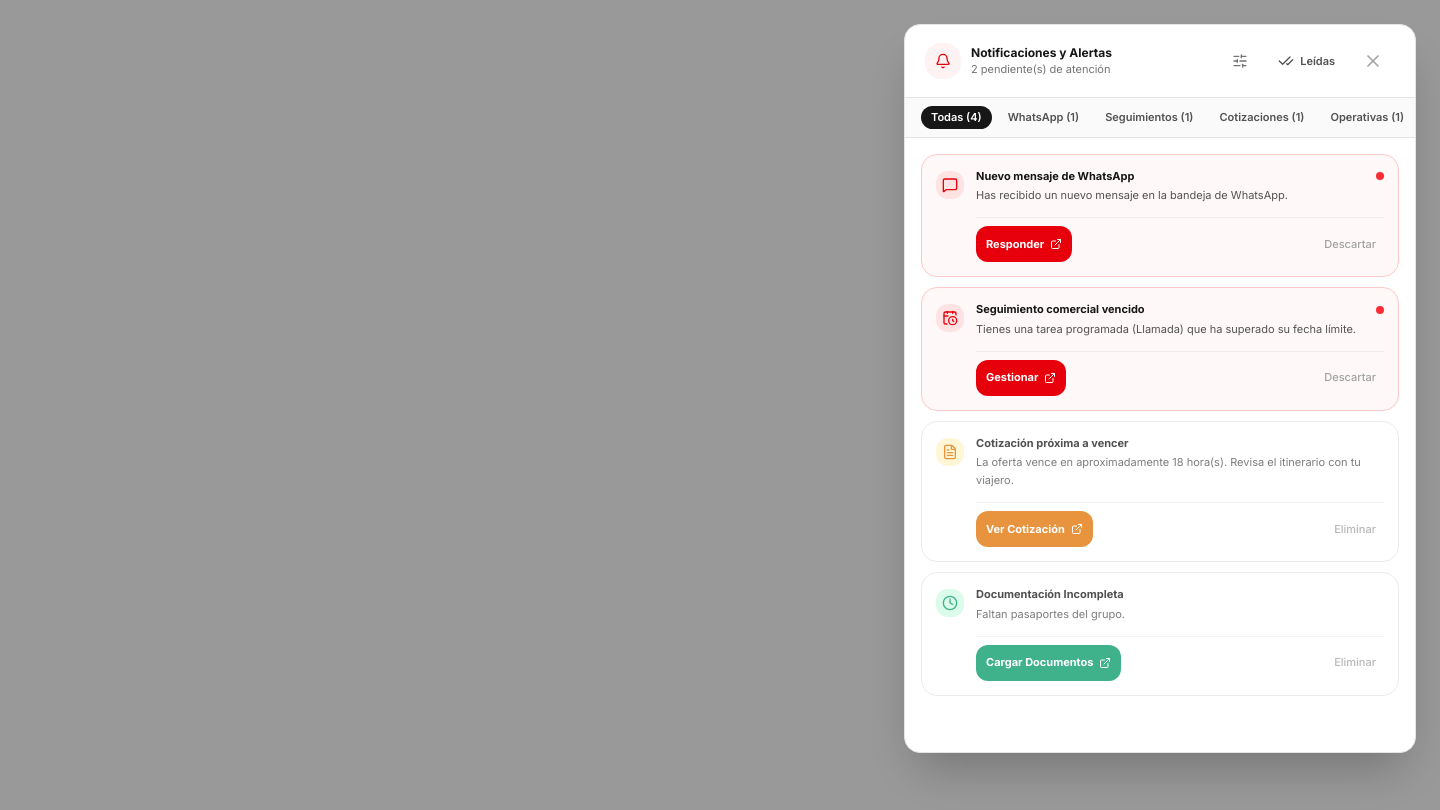
Componente PanelNotificaciones (T-110) › filtra correctamente por categoría
Note: Filtrar por WhatsApp
What coordinates should you click on to do the following:
click the tab with test id "filtro-mensajes"
I would click on:
 (1043, 117)
Its box is x1=998 y1=106 x2=1089 y2=129.
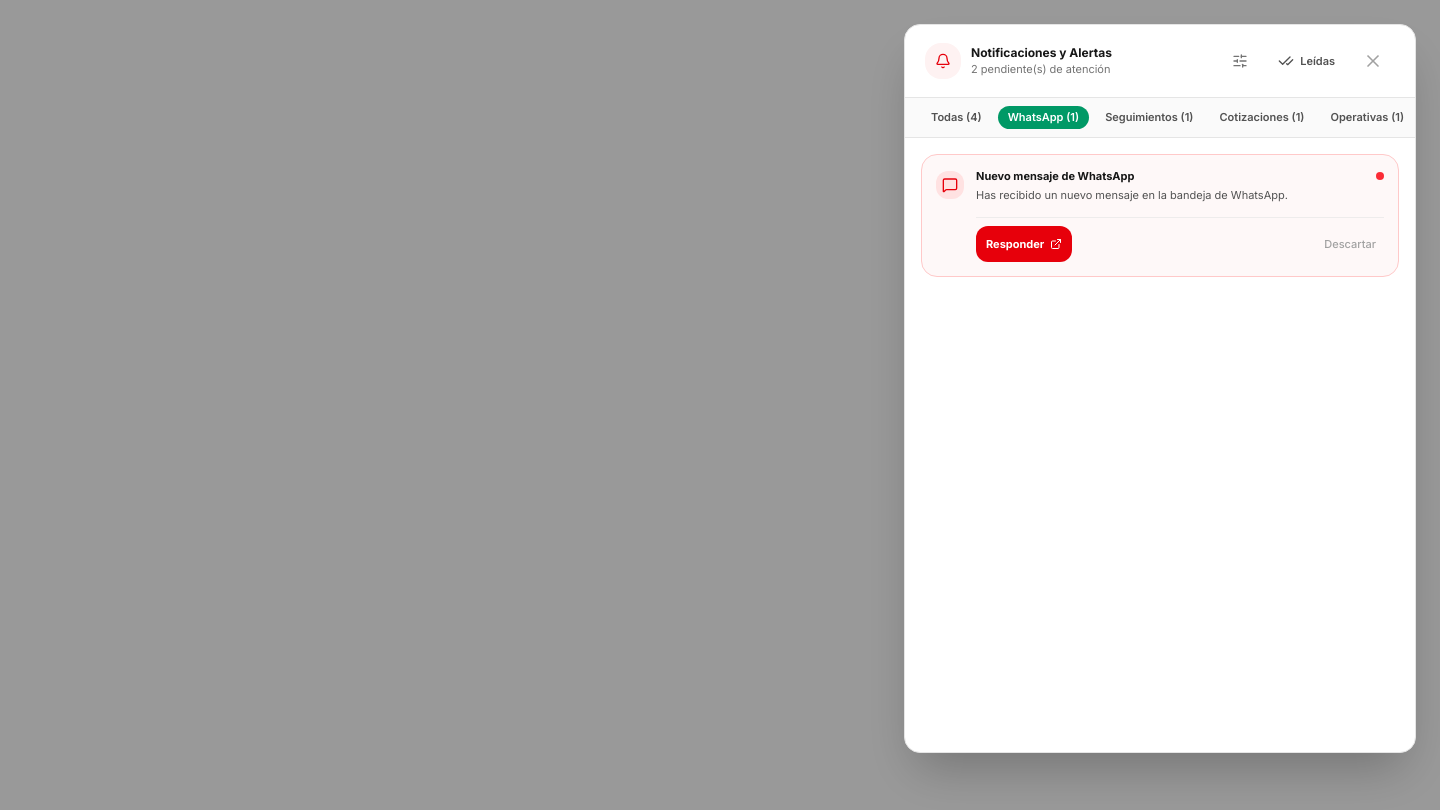
Expected: the text "Nuevo mensaje de WhatsApp" is shown, x1=976 y1=169 x2=1134 y2=183
Expected: the text "Seguimiento comercial vencido" is gone
Note: Filtrar por Seguimientos
What coordinates should you click on to do the following:
click the tab with test id "filtro-seguimientos"
I would click on:
 (1149, 117)
Its box is x1=1095 y1=106 x2=1203 y2=129.
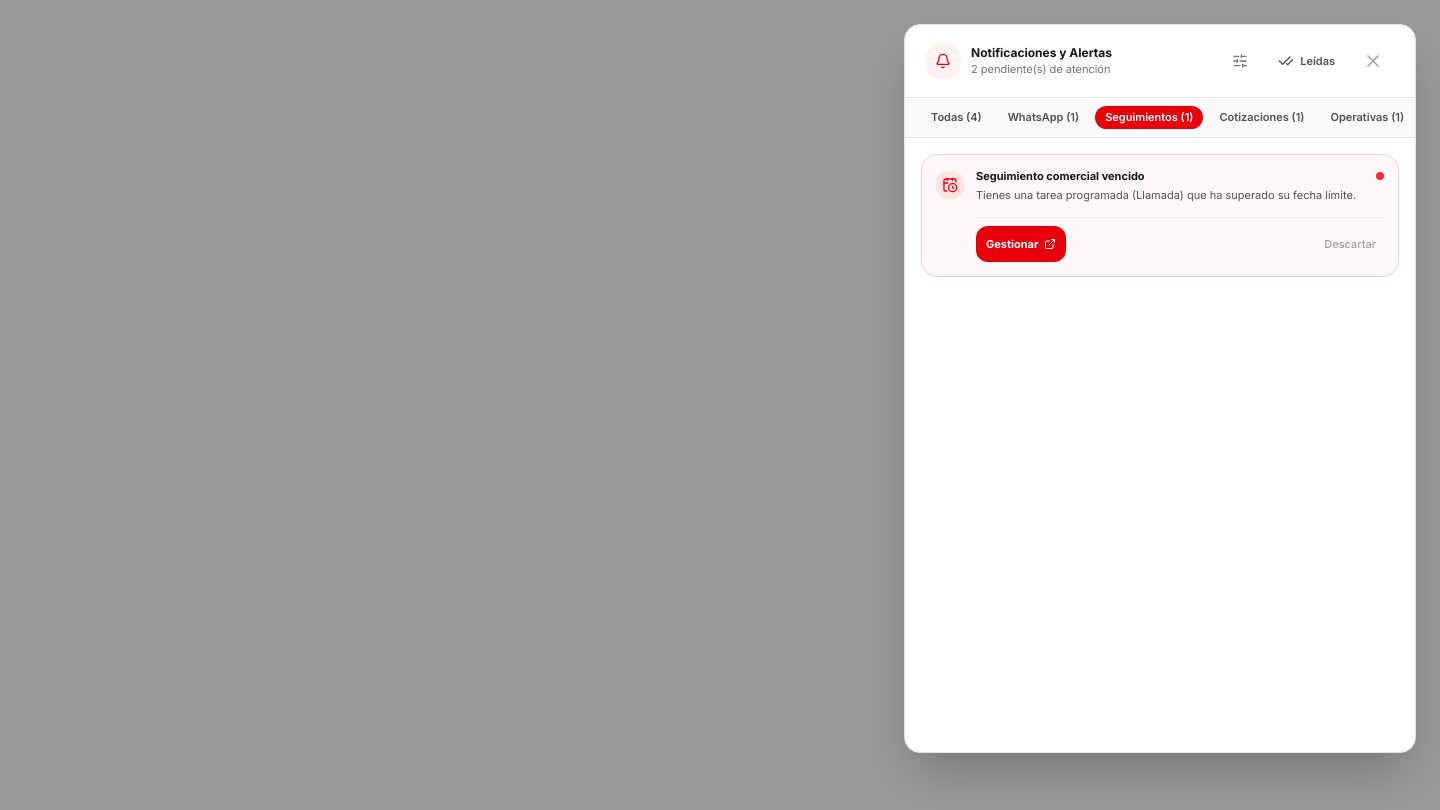
Expected: the text "Nuevo mensaje de WhatsApp" is gone
Expected: the text "Seguimiento comercial vencido" is shown, x1=976 y1=169 x2=1145 y2=183
Note: Volver a Todas
What coordinates should you click on to do the following:
click the tab with test id "filtro-todas"
I would click on:
 (956, 117)
Its box is x1=921 y1=106 x2=992 y2=129.
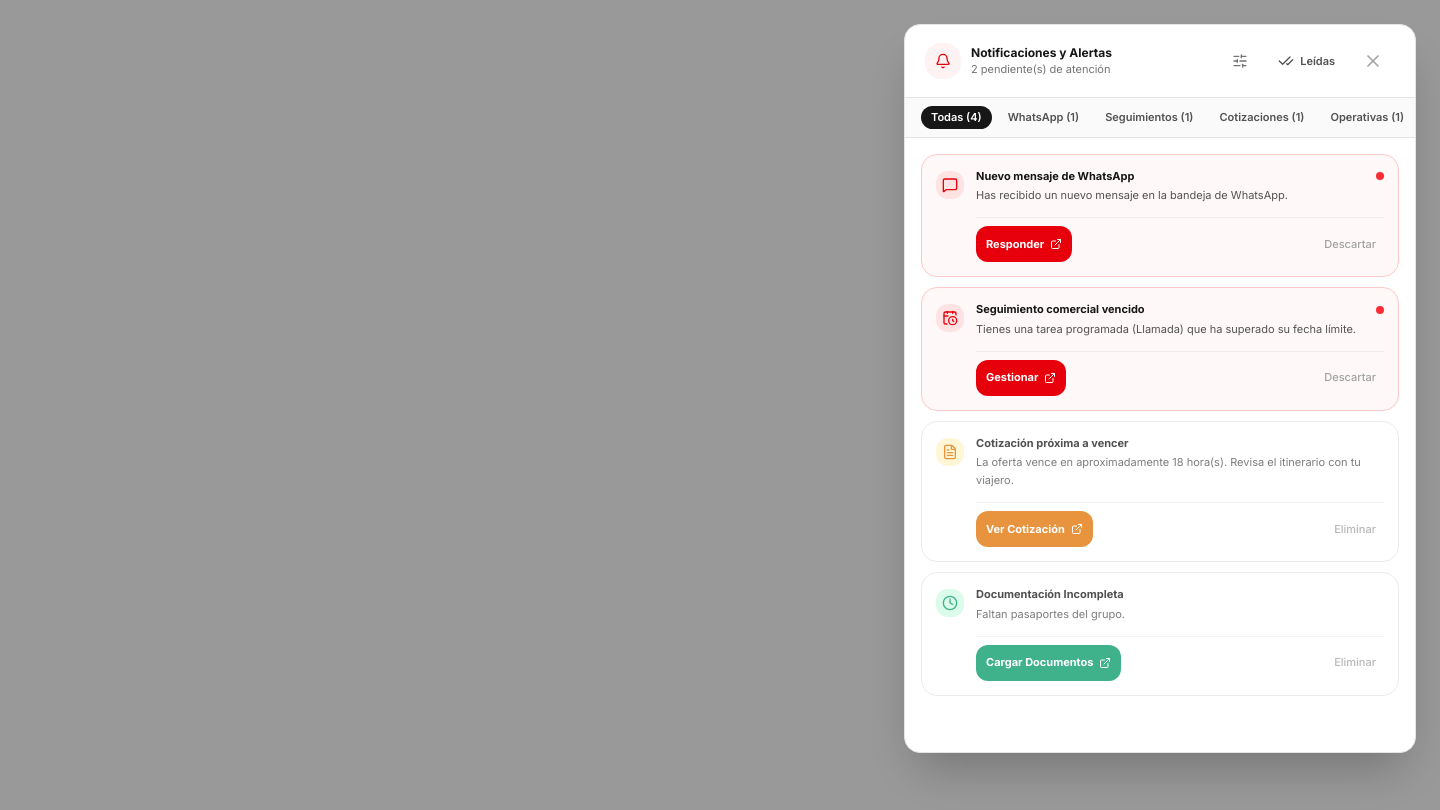
Expected: the text "Seguimiento comercial vencido" is shown, x1=976 y1=302 x2=1145 y2=317
Expected: the text "Nuevo mensaje de WhatsApp" is shown, x1=976 y1=169 x2=1134 y2=183
